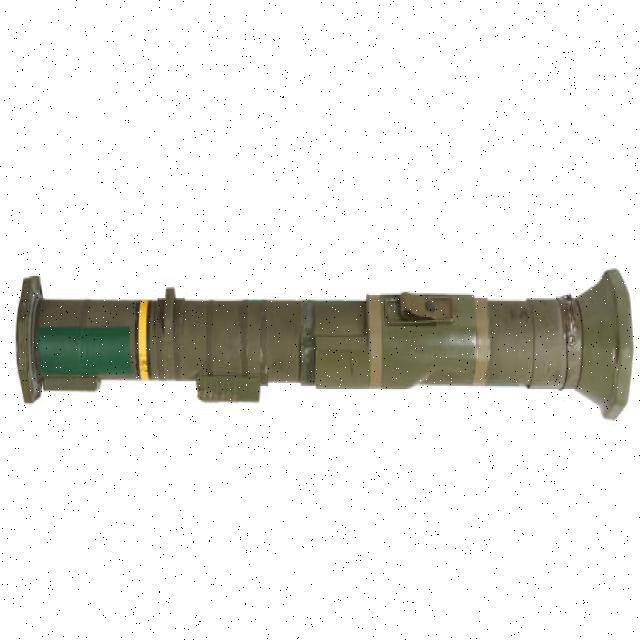bazooka: (9, 269, 640, 429)
